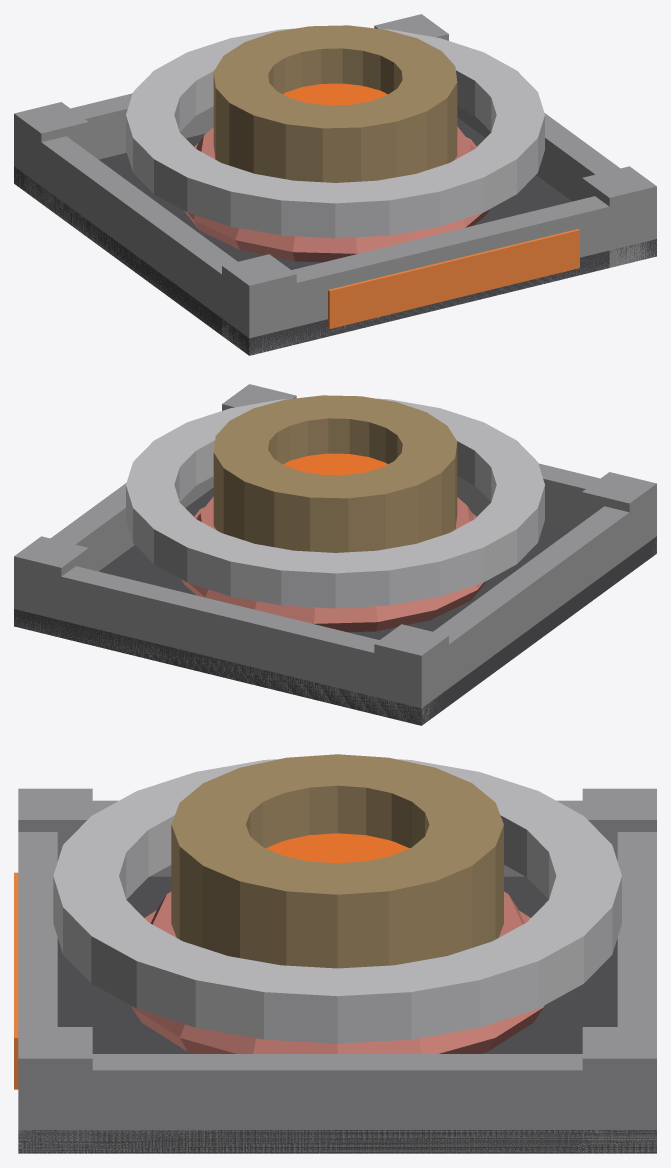
Rendered from vge_gravheat_absorber_cooldown.obj.
The picture shows the model from 3 angles, top to bottom: view 1: azimuth 30°, elevation 25°; view 2: azimuth 150°, elevation 25°; view 3: azimuth 270°, elevation 25°; orthographic projection. The views are drawn at different scales.
Visible parts, largest first — view 1: vge_gravheat_absorber_cooldown_12, vge_gravheat_absorber_cooldown_13, vge_gravheat_absorber_cooldown_3, vge_gravheat_absorber_cooldown_1, vge_gravheat_absorber_cooldown_0, vge_gravheat_absorber_cooldown_15, vge_gravheat_absorber_cooldown_9, vge_gravheat_absorber_cooldown_7, vge_gravheat_absorber_cooldown_2, vge_gravheat_absorber_cooldown_4, vge_gravheat_absorber_cooldown_5, vge_gravheat_absorber_cooldown_6 (+3 smaller); view 2: vge_gravheat_absorber_cooldown_12, vge_gravheat_absorber_cooldown_13, vge_gravheat_absorber_cooldown_2, vge_gravheat_absorber_cooldown_0, vge_gravheat_absorber_cooldown_3, vge_gravheat_absorber_cooldown_9, vge_gravheat_absorber_cooldown_4, vge_gravheat_absorber_cooldown_6, vge_gravheat_absorber_cooldown_5, vge_gravheat_absorber_cooldown_8, vge_gravheat_absorber_cooldown_1, vge_gravheat_absorber_cooldown_14 (+2 smaller); view 3: vge_gravheat_absorber_cooldown_12, vge_gravheat_absorber_cooldown_13, vge_gravheat_absorber_cooldown_4, vge_gravheat_absorber_cooldown_0, vge_gravheat_absorber_cooldown_1, vge_gravheat_absorber_cooldown_2, vge_gravheat_absorber_cooldown_9, vge_gravheat_absorber_cooldown_8, vge_gravheat_absorber_cooldown_7, vge_gravheat_absorber_cooldown_5, vge_gravheat_absorber_cooldown_6, vge_gravheat_absorber_cooldown_14 (+3 smaller).
Part boxes in pixels (box(x1,y1,x2,y2)): vge_gravheat_absorber_cooldown_12: box(126, 28, 544, 238); vge_gravheat_absorber_cooldown_13: box(213, 25, 457, 182); vge_gravheat_absorber_cooldown_3: box(28, 133, 237, 344); vge_gravheat_absorber_cooldown_1: box(235, 196, 656, 355); vge_gravheat_absorber_cooldown_0: box(14, 117, 656, 355); vge_gravheat_absorber_cooldown_15: box(328, 229, 579, 328); vge_gravheat_absorber_cooldown_9: box(184, 137, 489, 262); vge_gravheat_absorber_cooldown_7: box(582, 166, 656, 267); vge_gravheat_absorber_cooldown_2: box(14, 93, 213, 193); vge_gravheat_absorber_cooldown_4: box(457, 106, 620, 201); vge_gravheat_absorber_cooldown_5: box(222, 254, 296, 354); vge_gravheat_absorber_cooldown_6: box(14, 102, 88, 201); vge_gravheat_absorber_cooldown_12: box(126, 398, 544, 608); vge_gravheat_absorber_cooldown_13: box(213, 395, 457, 552); vge_gravheat_absorber_cooldown_2: box(14, 565, 435, 725); vge_gravheat_absorber_cooldown_0: box(14, 487, 656, 725); vge_gravheat_absorber_cooldown_3: box(433, 506, 630, 697); vge_gravheat_absorber_cooldown_9: box(181, 507, 486, 632); vge_gravheat_absorber_cooldown_4: box(50, 476, 213, 571); vge_gravheat_absorber_cooldown_6: box(374, 624, 448, 725); vge_gravheat_absorber_cooldown_5: box(582, 472, 656, 555); vge_gravheat_absorber_cooldown_8: box(14, 536, 88, 637); vge_gravheat_absorber_cooldown_1: box(457, 463, 656, 554); vge_gravheat_absorber_cooldown_14: box(283, 453, 387, 475); vge_gravheat_absorber_cooldown_12: box(53, 759, 621, 1043); vge_gravheat_absorber_cooldown_13: box(171, 754, 503, 968); vge_gravheat_absorber_cooldown_4: box(57, 1054, 617, 1153); vge_gravheat_absorber_cooldown_0: box(18, 876, 656, 1153); vge_gravheat_absorber_cooldown_1: box(18, 832, 57, 1153); vge_gravheat_absorber_cooldown_2: box(617, 832, 656, 1153); vge_gravheat_absorber_cooldown_9: box(131, 910, 544, 1053); vge_gravheat_absorber_cooldown_8: box(582, 1027, 656, 1153); vge_gravheat_absorber_cooldown_7: box(18, 1027, 92, 1153); vge_gravheat_absorber_cooldown_5: box(18, 788, 92, 861); vge_gravheat_absorber_cooldown_6: box(582, 788, 656, 861); vge_gravheat_absorber_cooldown_14: box(266, 833, 409, 863).
Size of the model in its own units: 2.92 by 0.98 by 2.94.
